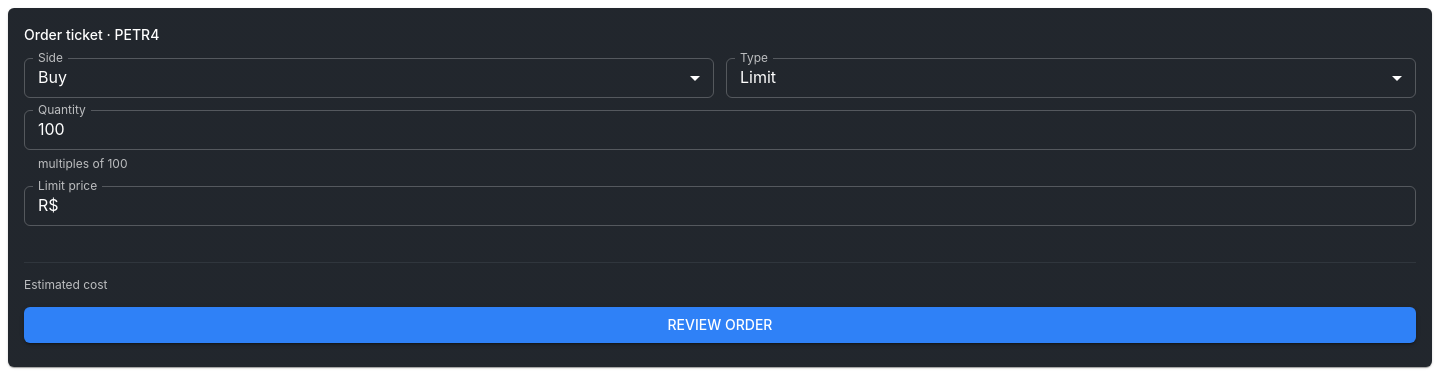
the price field › moves digits in from the right without corrupting the value
Type "3850" into the field labelled "Limit price" at point(741, 206), box [67,186,1416,226]
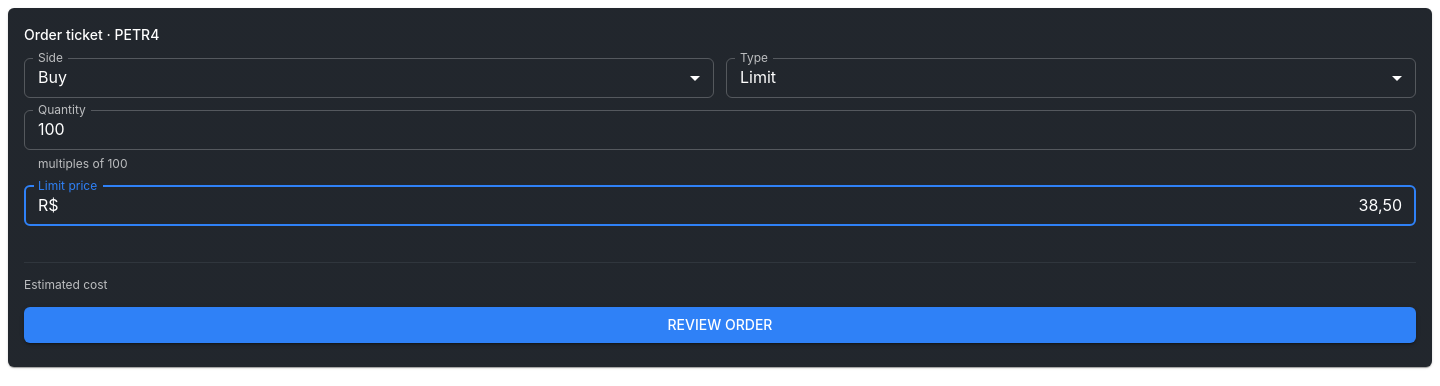
Now the field labelled "Limit price" holds "38,50", box [67,186,1416,226]
